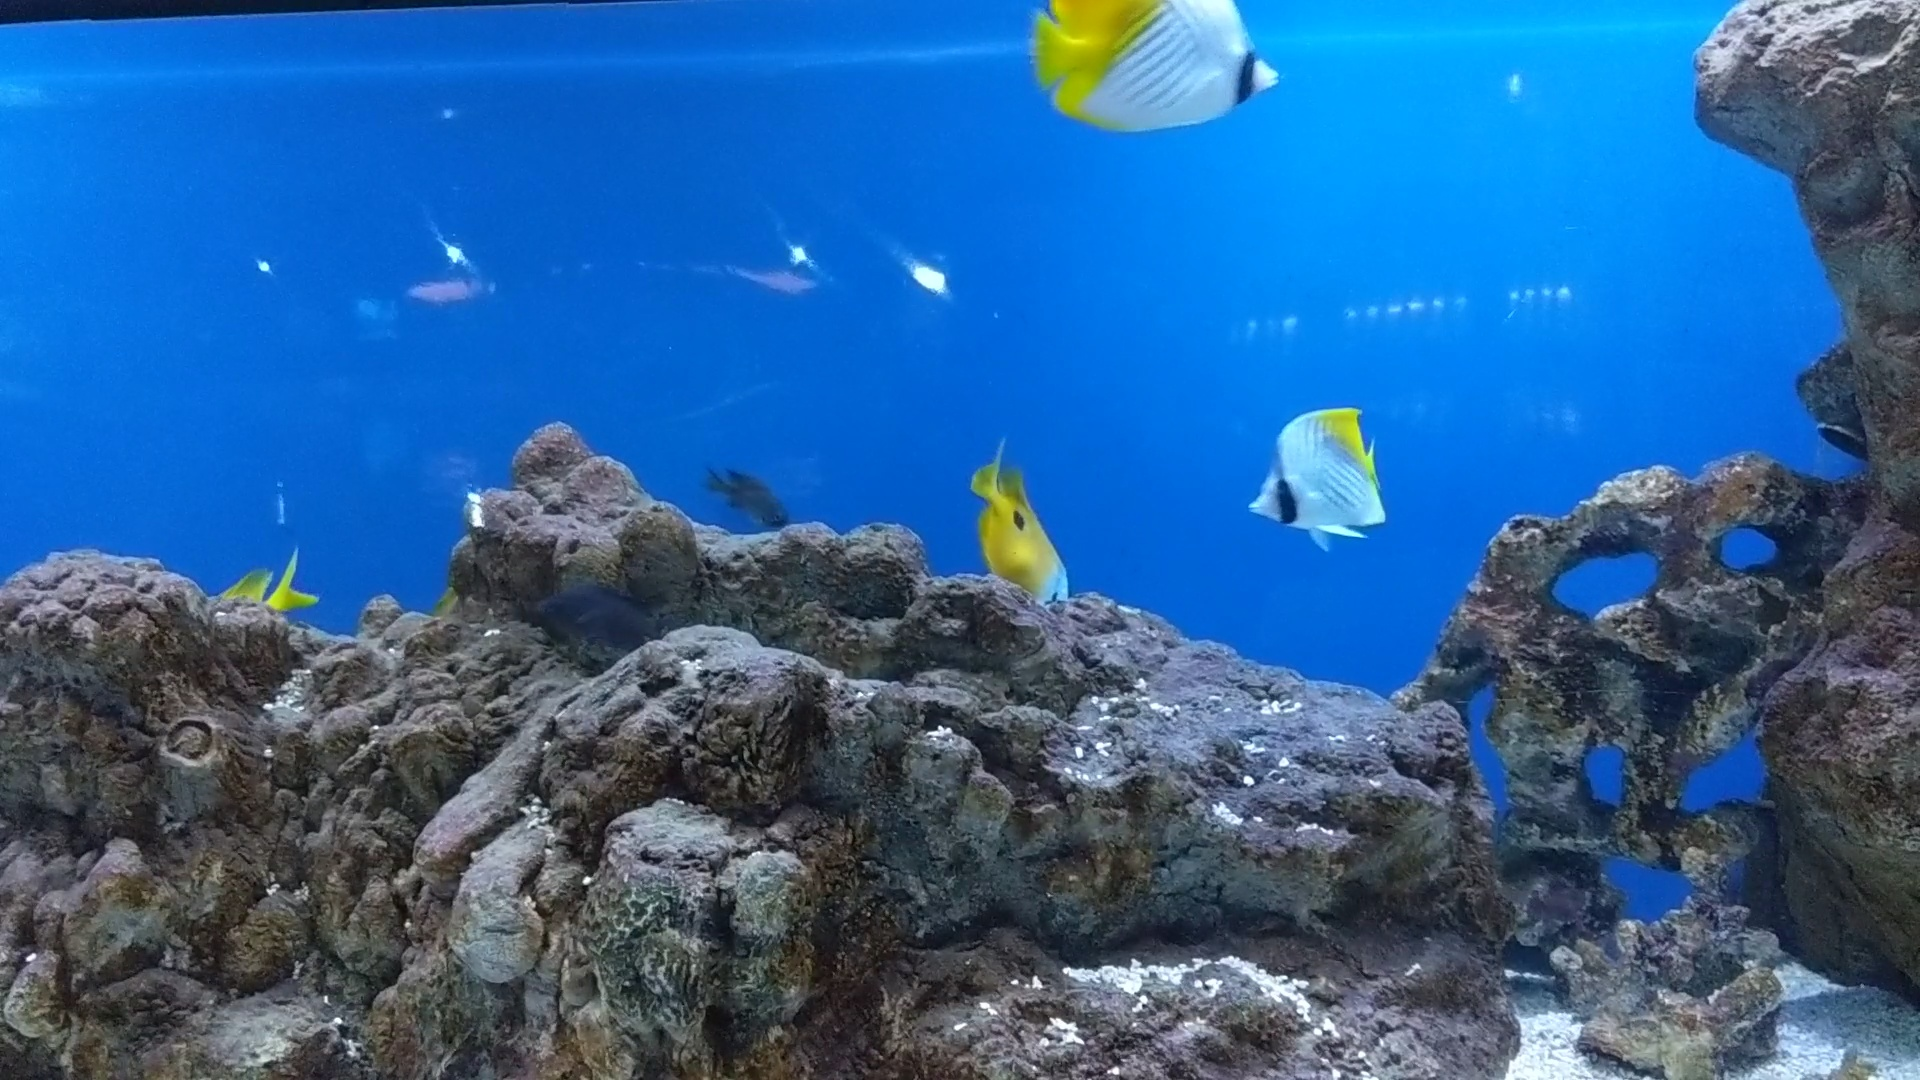butterflyfish: (1033, 0, 1276, 138), (1203, 394, 1396, 545)
rabbitfish: (967, 456, 1067, 622)
